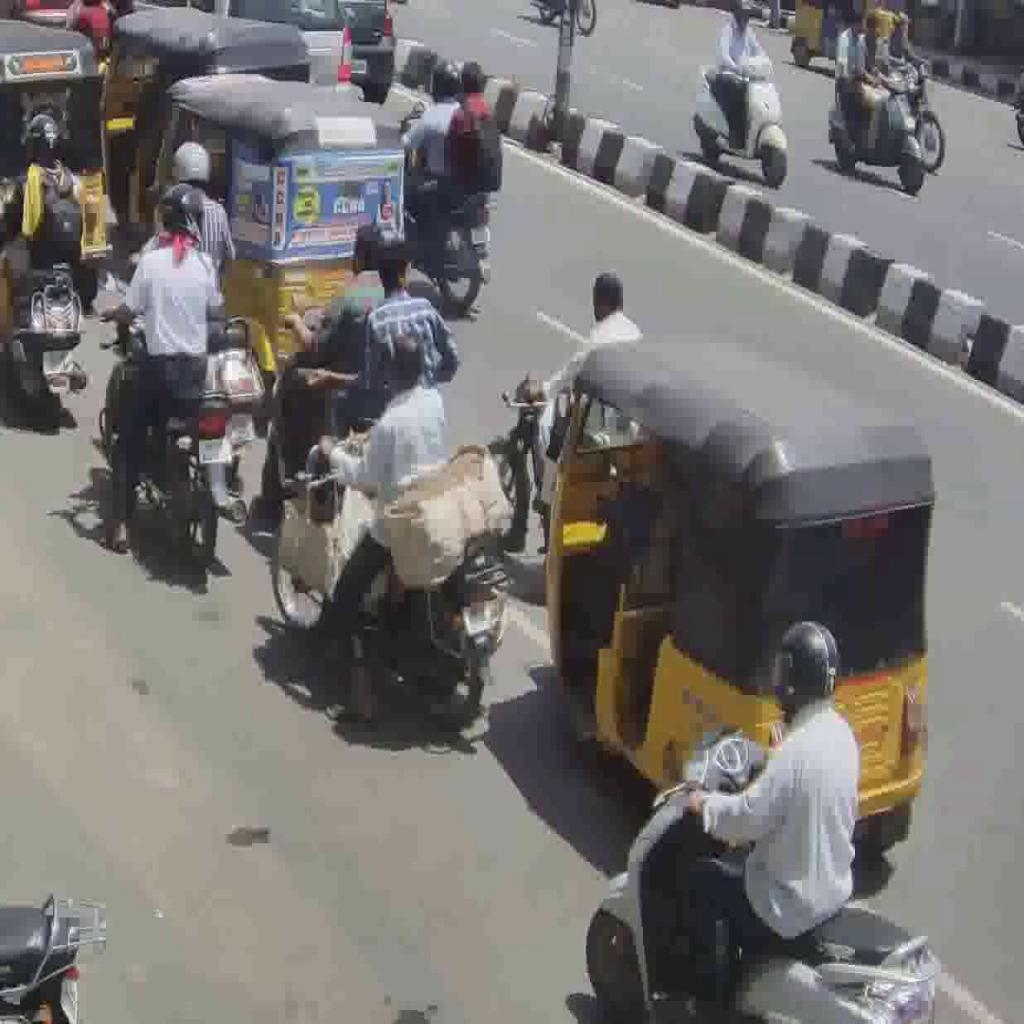bike: (585, 730, 943, 1024), (270, 438, 512, 736), (104, 294, 248, 580), (9, 264, 89, 430), (404, 173, 497, 313)
helmet: (768, 614, 842, 716), (157, 183, 207, 252), (23, 113, 62, 170), (429, 57, 460, 104)
lisc: (463, 603, 491, 639), (199, 436, 232, 465), (42, 349, 74, 375), (470, 223, 491, 245)
no_helmet: (384, 332, 426, 398), (461, 60, 486, 97)
noise: (827, 4, 948, 194), (693, 0, 789, 189)
rider: (683, 613, 860, 1024), (315, 332, 450, 727), (102, 184, 224, 558), (1, 113, 83, 356), (415, 60, 492, 271), (402, 57, 461, 233)
